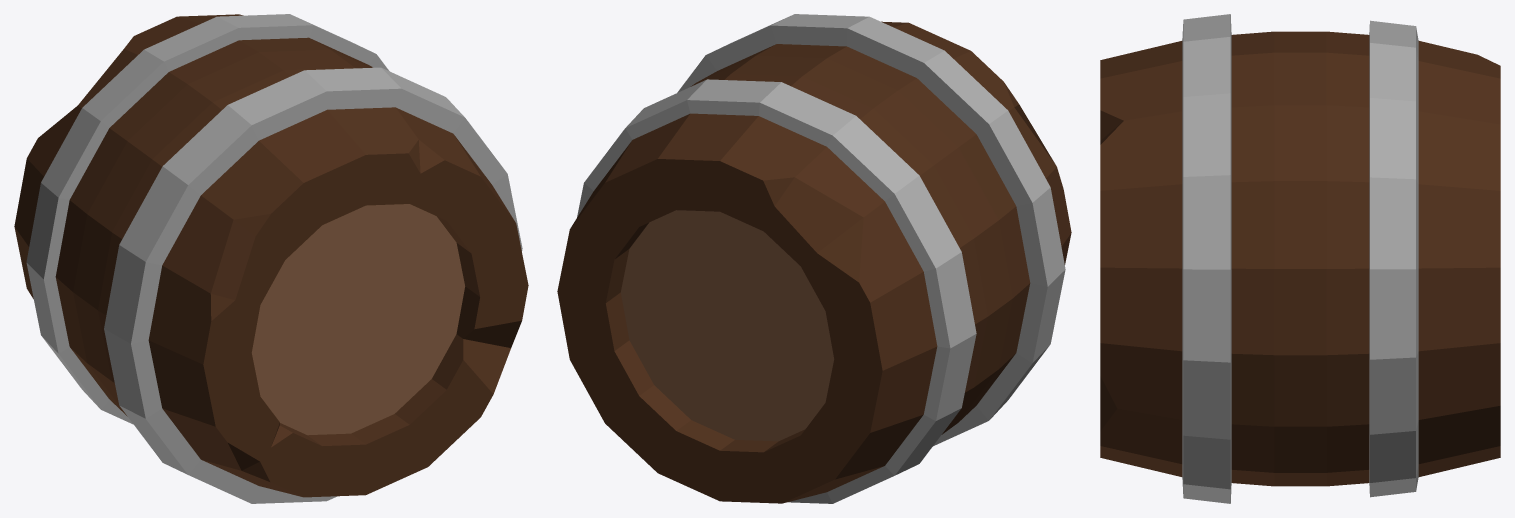
File: Barrel.fbx
3 views of the same model, side by side, from view 1: azimuth 30°, elevation 25°; view 2: azimuth 150°, elevation 25°; view 3: azimuth 270°, elevation 25° (orthographic). The views are drawn at different scales.
Visible parts, largest first — view 1: Barrels.001; view 2: Barrels.001; view 3: Barrels.001.
Part boxes in pixels (x1,y1,x2,y2): Barrels.001: (14,14,528,503); Barrels.001: (557,14,1071,503); Barrels.001: (1100,14,1500,503).
Bounding box in the file's own units: 6.65 × 6.65 × 5.43.
